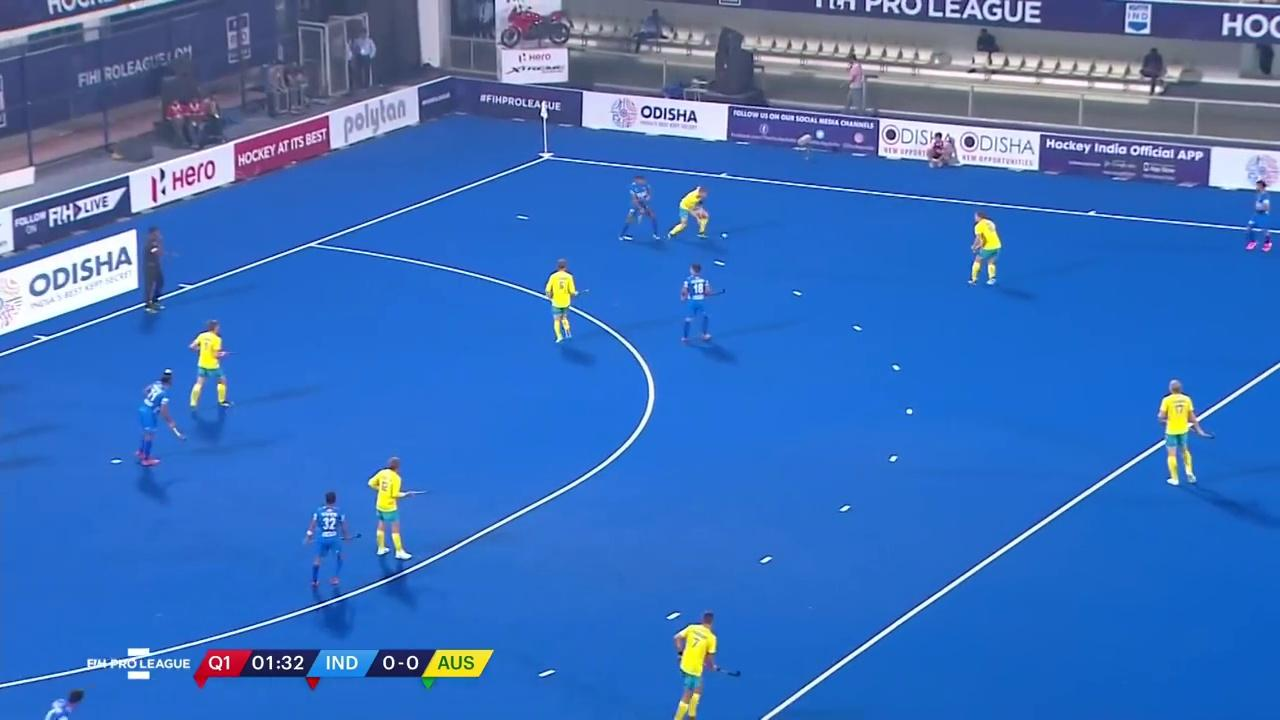ball: (719, 231, 734, 241)
